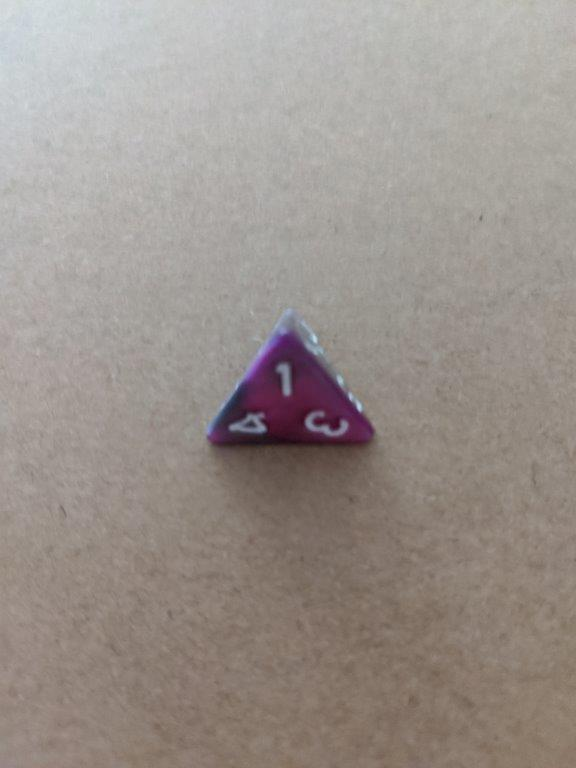d4-1: (202, 300, 379, 457)
